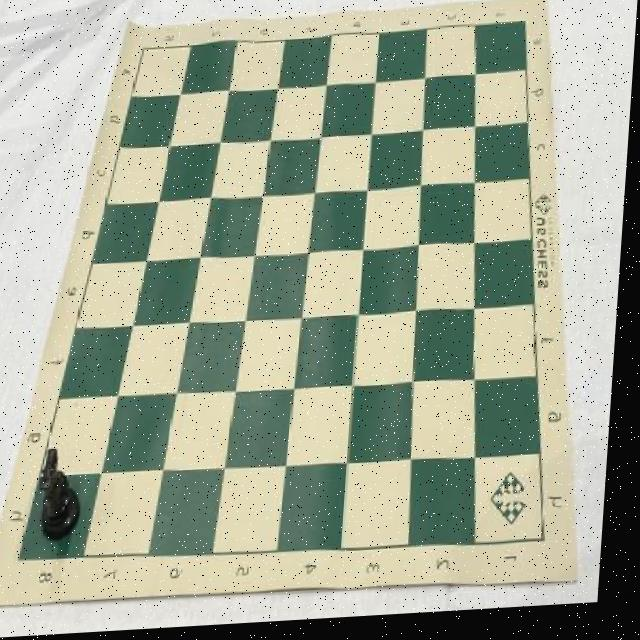black-king: (44, 449, 91, 545)
